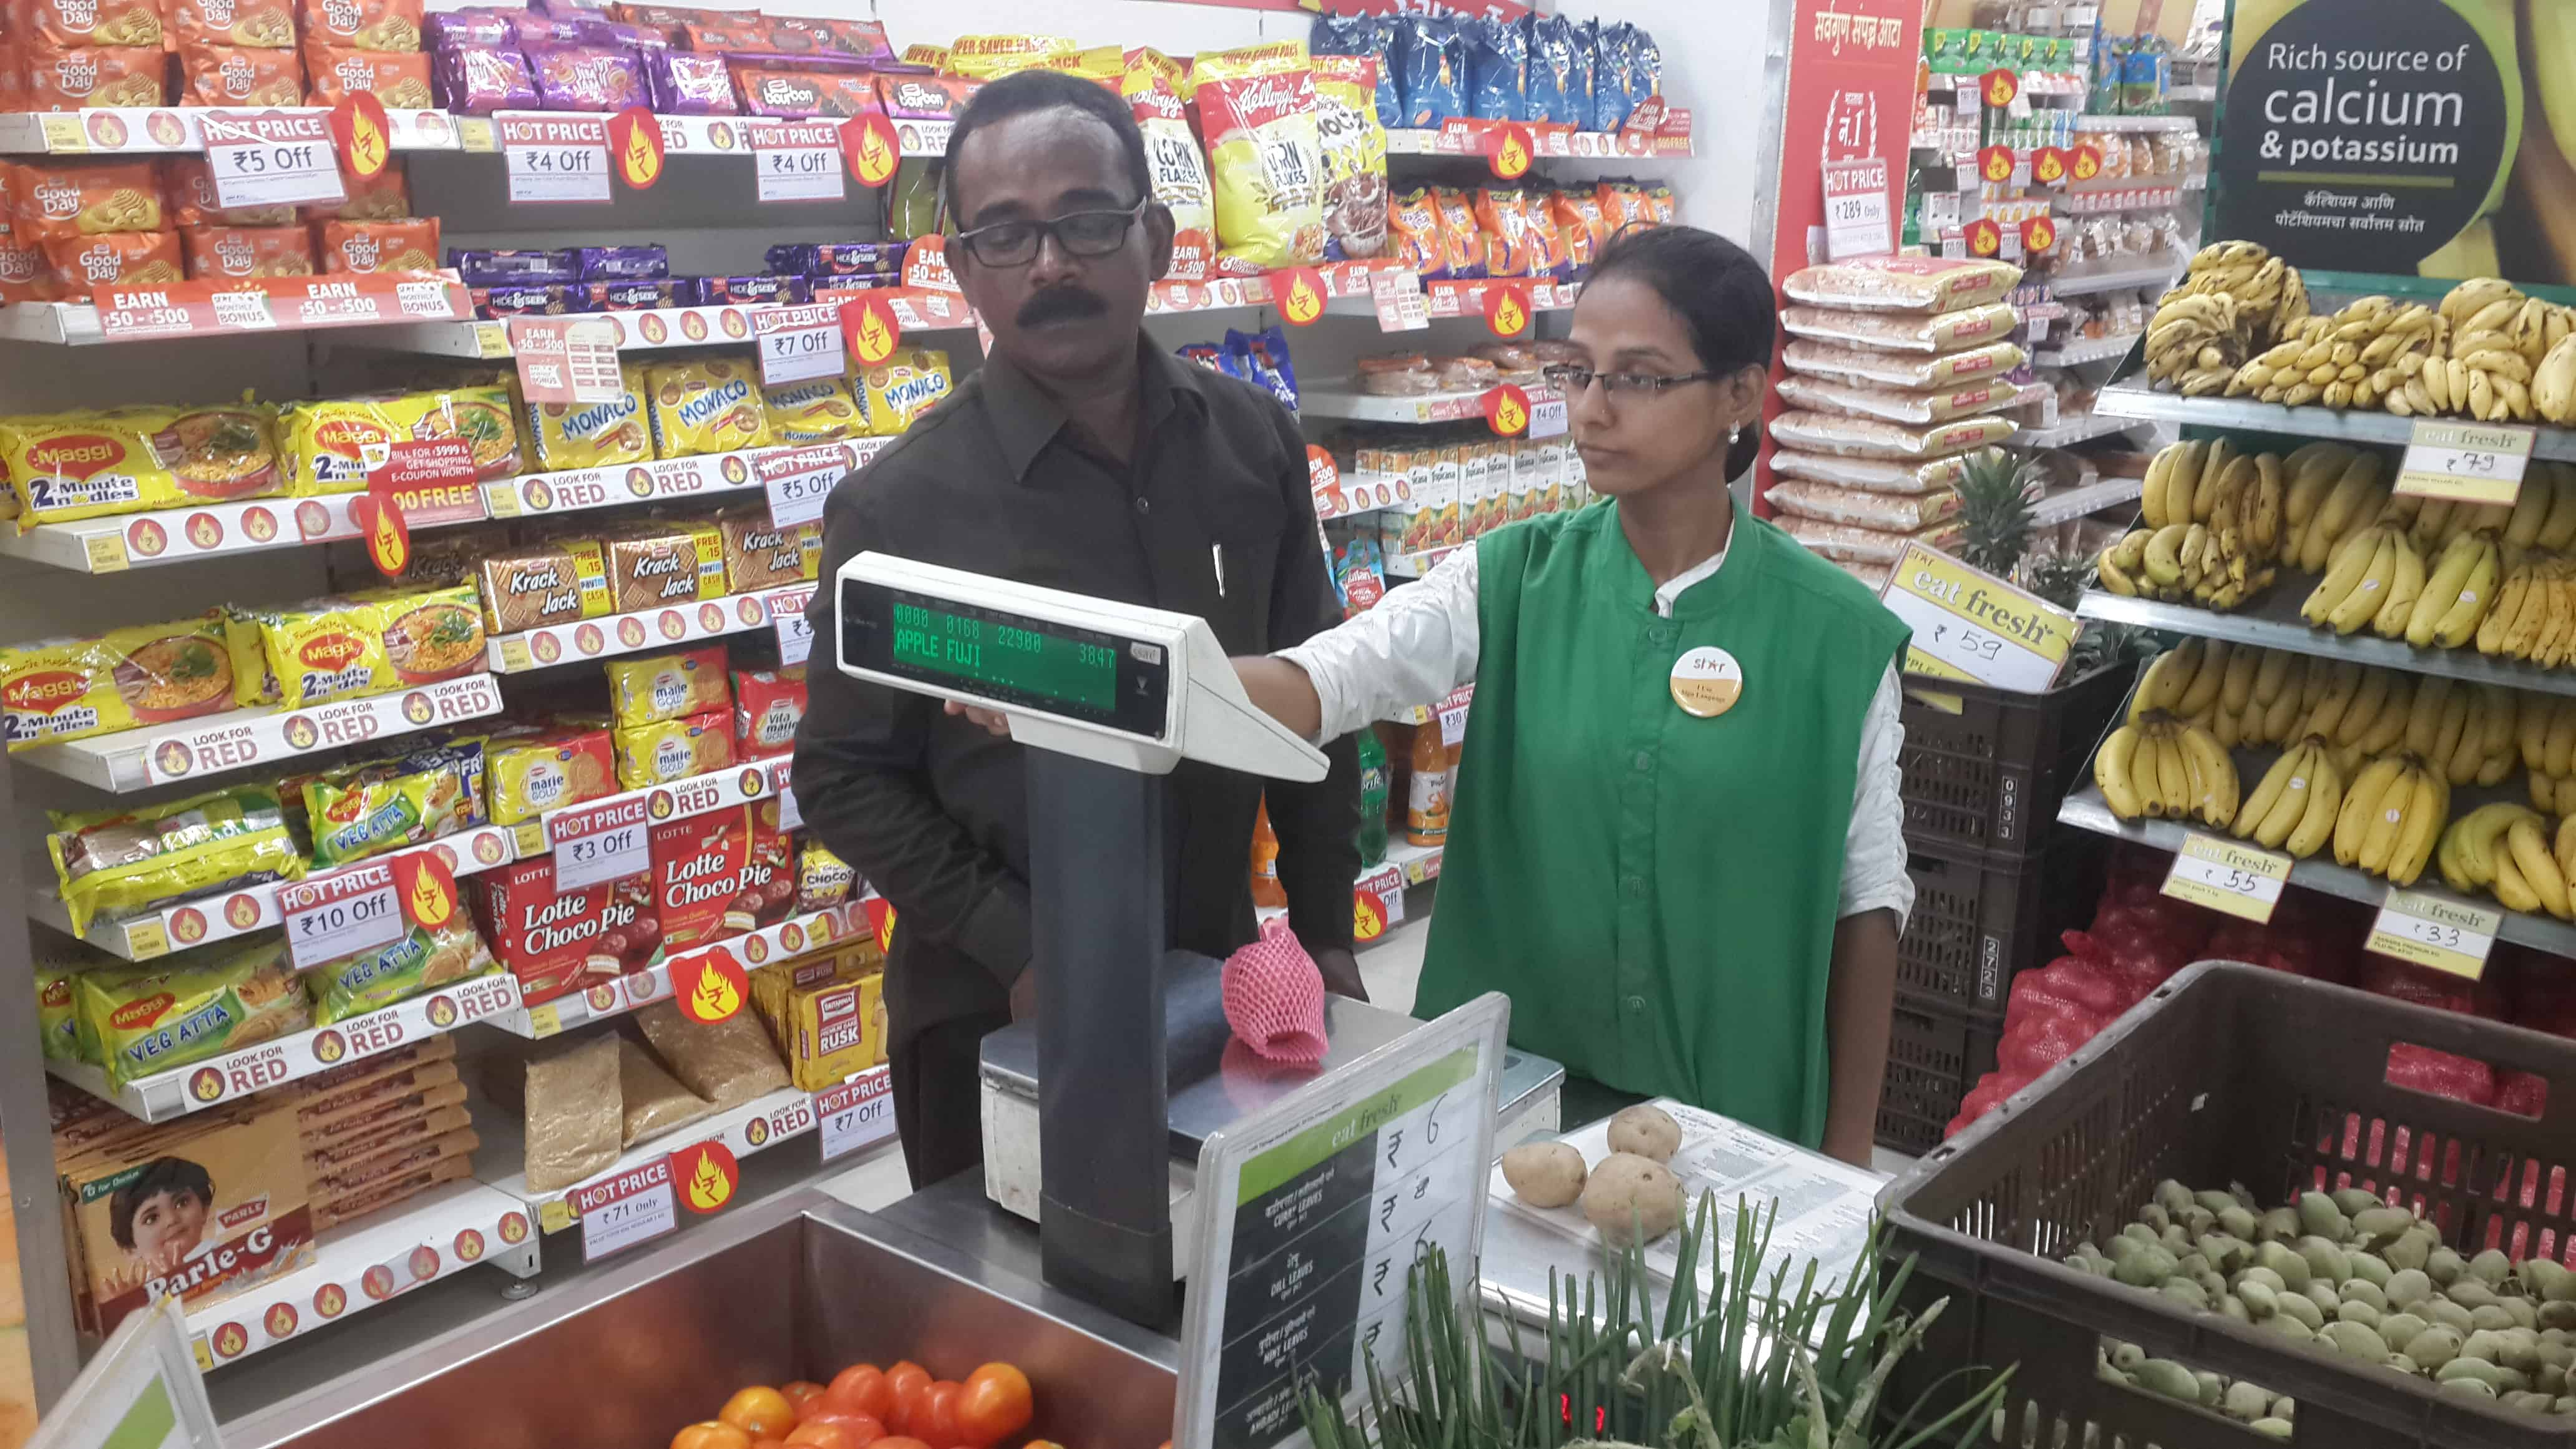Age_20_30: (1558, 251, 1780, 503)
Age_30_40: (929, 95, 1184, 367)
E_Indian: (929, 95, 1184, 367), (1558, 251, 1780, 503)
Emotion_Neutral: (929, 95, 1184, 367), (1558, 251, 1780, 503)
G_ Female: (1558, 251, 1780, 503)
G_Male: (929, 95, 1184, 367)
